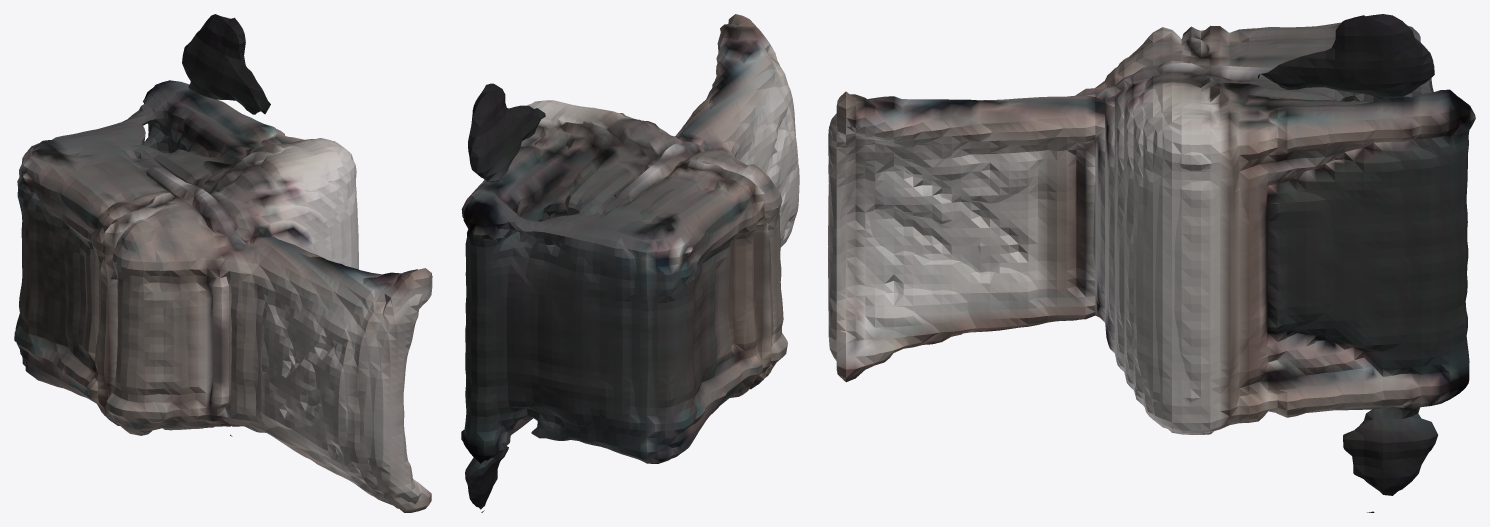
3 views of the same model, side by side, from view 1: azimuth 30°, elevation 25°; view 2: azimuth 150°, elevation 25°; view 3: azimuth 270°, elevation 25° (orthographic). The views are drawn at different scales.
Parts seen in each view (by area): view 1: world; view 2: world; view 3: world.
Boxes of the visible parts, left/top/right/bottom form: world: left=14, top=14, right=432, bottom=512; world: left=461, top=14, right=799, bottom=512; world: left=828, top=14, right=1475, bottom=512.
Size of the model in its own units: 0.4989 by 0.7847 by 0.9256.
